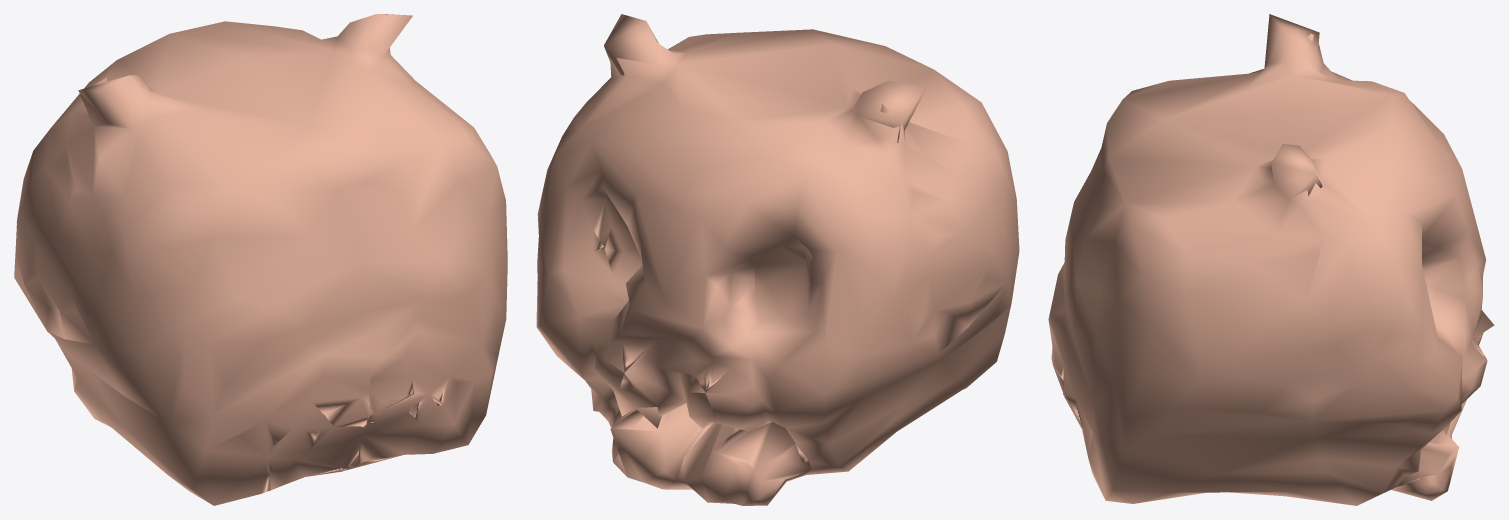
Rendered from blow.glb.
3 renders of one model, left to right at view 1: azimuth 30°, elevation 25°; view 2: azimuth 150°, elevation 25°; view 3: azimuth 270°, elevation 25°, orthographic. The views are drawn at different scales.
Visible parts, largest first — view 1: blow; view 2: blow; view 3: blow.
Part boxes in pixels (x1,y1,x2,y2): blow: (14, 14, 507, 505); blow: (536, 14, 1019, 505); blow: (1048, 14, 1494, 505).
Size of the model in its own units: 4.1 by 3.8 by 4.01.
1 material, 1 textured.
